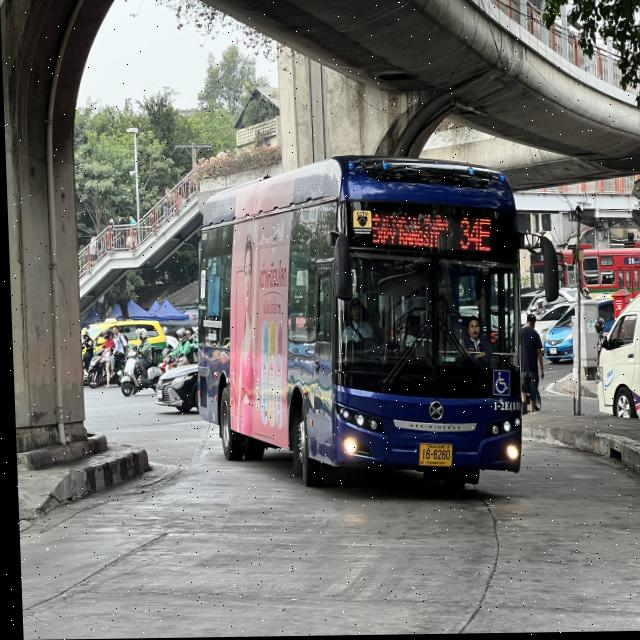Bus Line Number: (453, 208, 498, 261)
Bus Side Number: (484, 398, 517, 414)
Destination Sign: (365, 200, 451, 255)
TSB-Bus: (194, 157, 533, 493)
